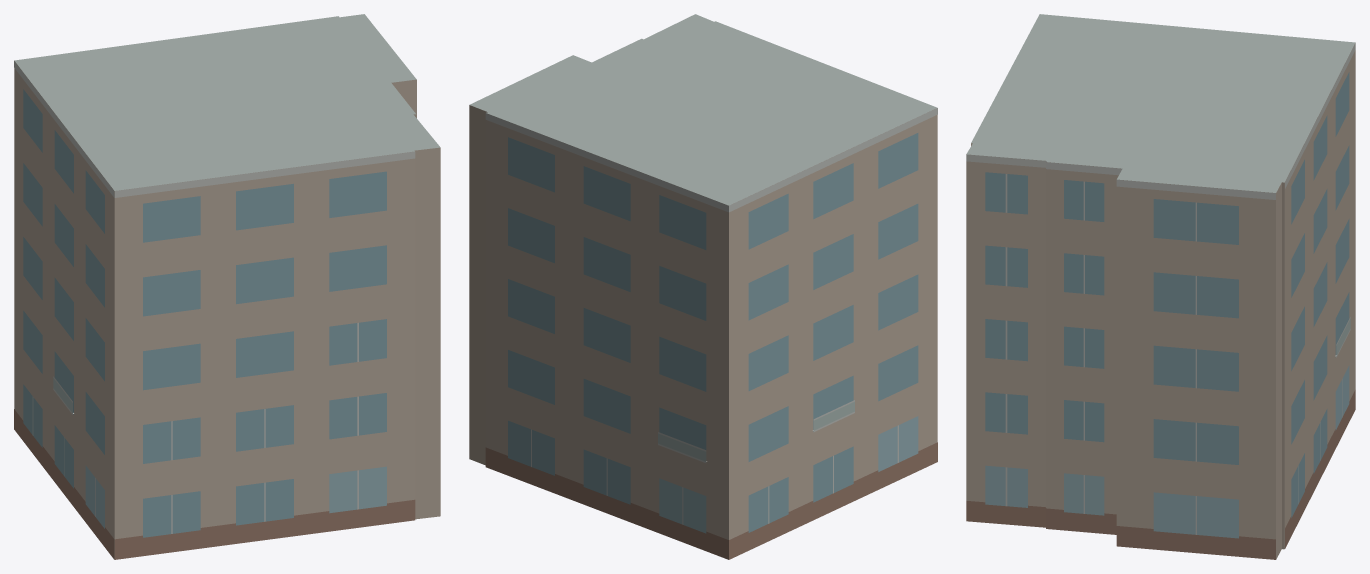
Rendered from survey-upis-32923712.glb.
The picture shows the model from 3 angles, left to right: view 1: azimuth 30°, elevation 25°; view 2: azimuth 150°, elevation 25°; view 3: azimuth 270°, elevation 25°; orthographic projection. The views are drawn at different scales.
Parts seen in each view (by area): view 1: survey-upis-32923712.tmp; view 2: survey-upis-32923712.tmp; view 3: survey-upis-32923712.tmp.
Part boxes in pixels (x1,y1,x2,y2): survey-upis-32923712.tmp: (14, 14, 440, 559); survey-upis-32923712.tmp: (469, 14, 937, 559); survey-upis-32923712.tmp: (966, 14, 1355, 559).
Size of the model in its own units: 13.3 by 12.7 by 12.23.
